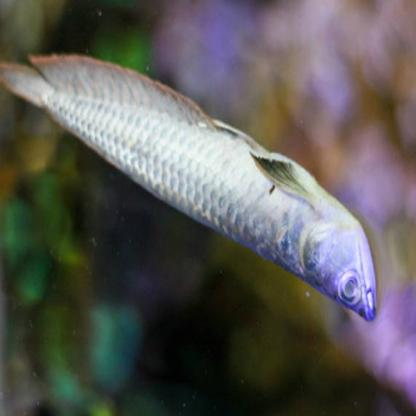deceased fish: (3, 41, 383, 321)
